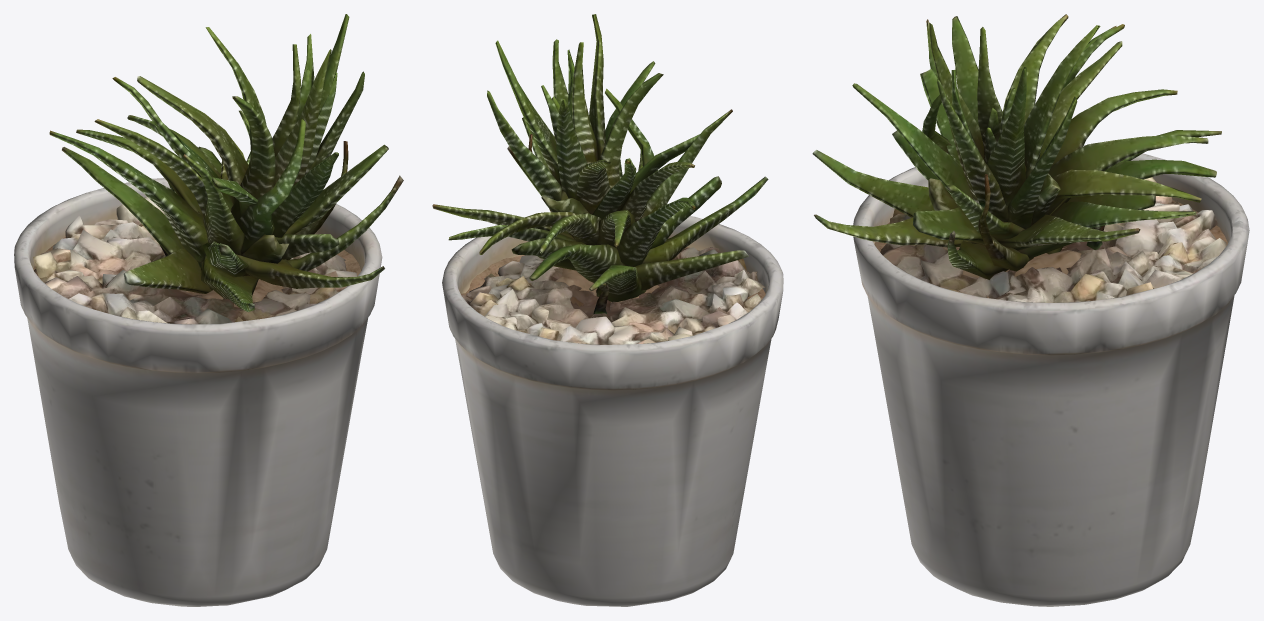
File: potted_plant_04.glb
The picture shows the model from 3 angles, left to right: view 1: azimuth 30°, elevation 25°; view 2: azimuth 150°, elevation 25°; view 3: azimuth 270°, elevation 25°; orthographic projection. The views are drawn at different scales.
Parts seen in each view (by area): view 1: potted_plant_04_ground; view 2: potted_plant_04_ground; view 3: potted_plant_04_ground.
Part boxes in pixels (bbox=[...]): potted_plant_04_ground: bbox=[14, 14, 403, 606]; potted_plant_04_ground: bbox=[432, 14, 783, 606]; potted_plant_04_ground: bbox=[812, 14, 1249, 606].
Bounding box in the file's own units: 0.1674 × 0.2672 × 0.1848.
Materials: 1 (1 with a texture image).
